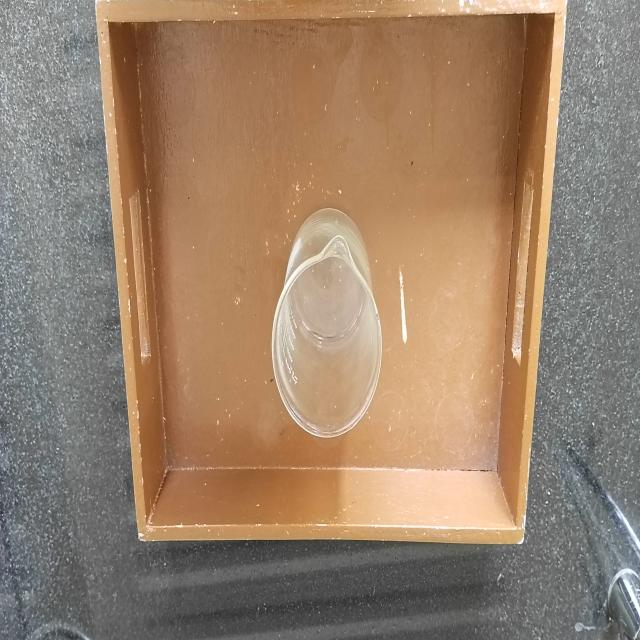beaker: (265, 198, 386, 444)
